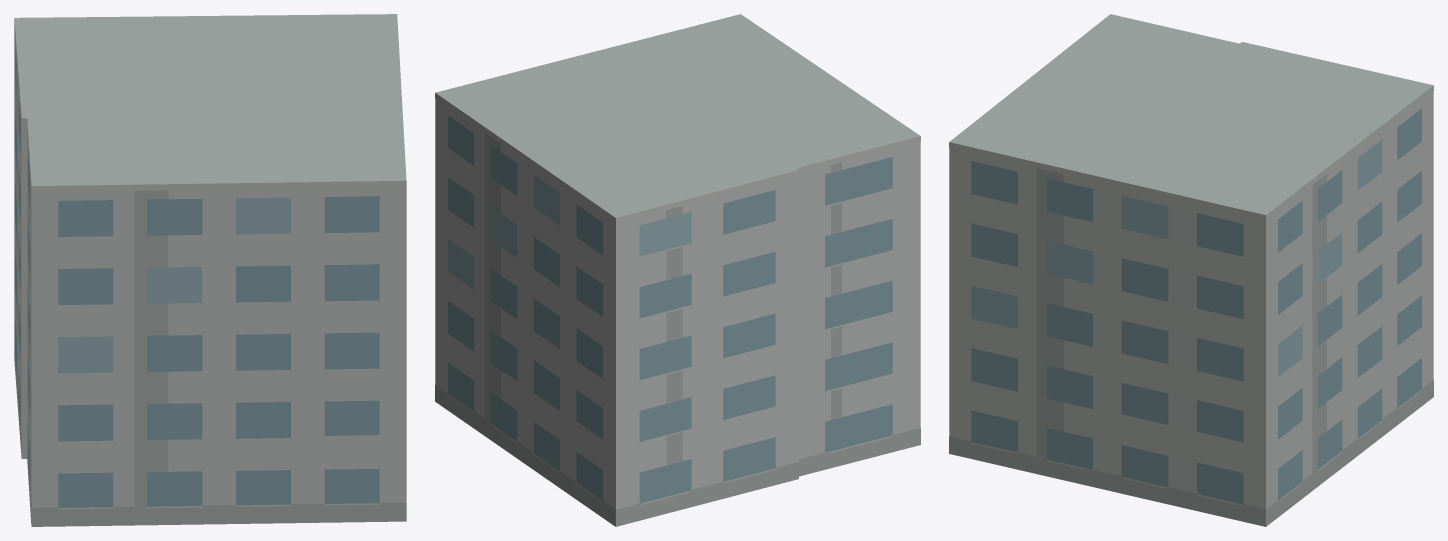
Rendered from survey-upis-33043365.glb.
The picture shows the model from 3 angles, left to right: view 1: azimuth 30°, elevation 25°; view 2: azimuth 150°, elevation 25°; view 3: azimuth 270°, elevation 25°; orthographic projection. The views are drawn at different scales.
Visible parts, largest first — view 1: survey-upis-33043365.tmp; view 2: survey-upis-33043365.tmp; view 3: survey-upis-33043365.tmp.
Boxes of the visible parts, x1,y1,x2,y2 form: survey-upis-33043365.tmp: (14,14,406,526); survey-upis-33043365.tmp: (435,14,920,526); survey-upis-33043365.tmp: (949,14,1433,526).
Size of the model in its own units: 18.42 by 13.3 by 18.75.
